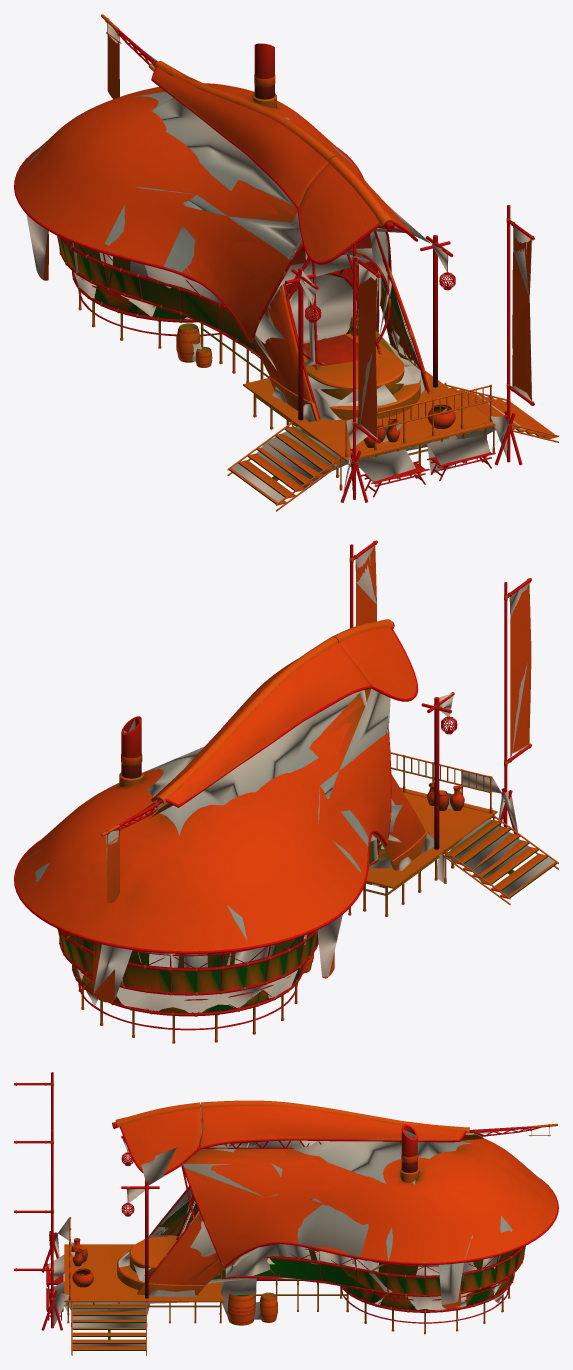
Rendered from KB3D_GAE_BldgSM_J.glb.
The picture shows the model from 3 angles, top to bottom: view 1: azimuth 30°, elevation 25°; view 2: azimuth 150°, elevation 25°; view 3: azimuth 270°, elevation 25°; orthographic projection. The views are drawn at different scales.
Parts seen in each view (by area): view 1: L0, L1, L2; view 2: L0, L2, L1; view 3: L0, L2, L1.
Boxes of the visible parts, x1,y1,x2,y2 form: L0: [14, 14, 558, 511]; L1: [17, 15, 558, 505]; L2: [23, 23, 547, 503]; L0: [14, 540, 558, 1043]; L2: [22, 545, 554, 1012]; L1: [15, 544, 556, 1041]; L0: [14, 1073, 558, 1355]; L2: [48, 1107, 525, 1346]; L1: [47, 1072, 555, 1349].
Size of the model in its own units: 10.5 by 8.7 by 21.29.
